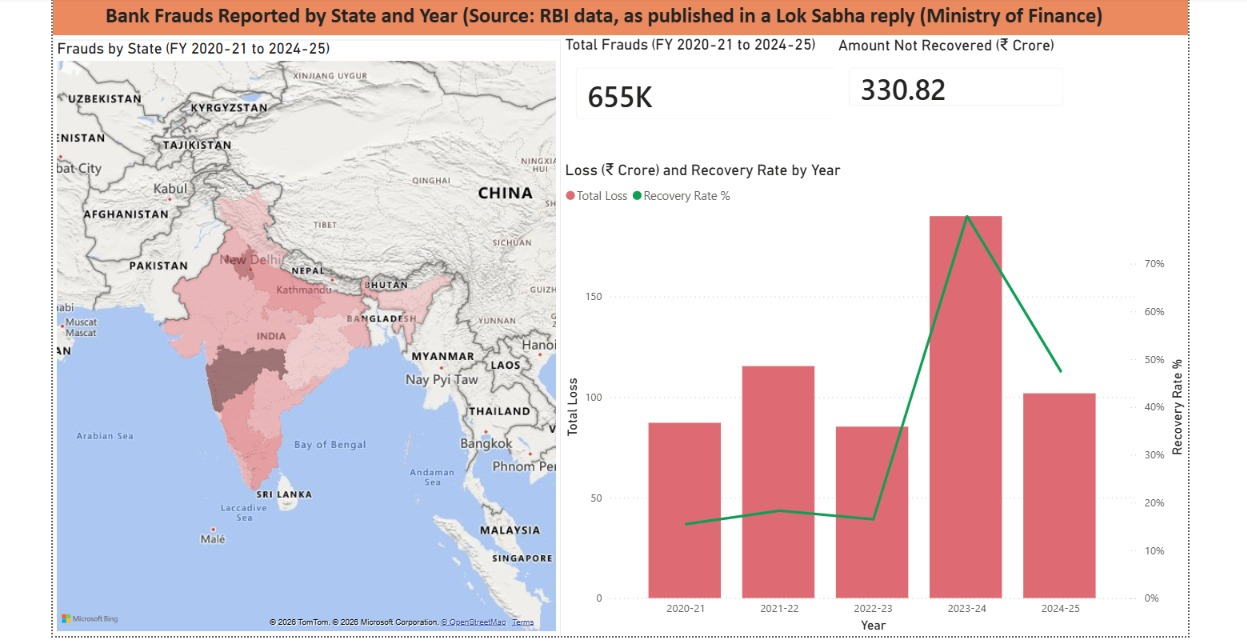

The page's visual inventory and layout, read from the dashboard file:
{"tool":"powerbi","page":{"name":"state wise analysis","canvas":[1280,720],"ordinal":2},"visuals":[{"type":"filledMap","title":"Frauds by State (FY 2020-21 to 2024-25)","fields":{"Category":["states.State/Area"]},"box":[0,47.7,572.3,672.6],"z":0},{"type":"cardVisual","title":"Total Frauds (FY 2020-21 to 2024-25)","fields":{"Data":["state wise data.Total Frauds"]},"box":[572.3,42.8,331.4,111.3],"z":1000},{"type":"cardVisual","title":"Amount Not Recovered (₹ Crore)","fields":{"Data":["state wise data.Amount Not Recovered"]},"box":[880.4,42.8,276.4,96.6],"z":2000},{"type":"lineClusteredColumnComboChart","title":"Loss (₹ Crore) and Recovery Rate by Year","fields":{"Category":["years.Year"],"Y":["state wise data.Total Loss"],"Y2":["state wise data.Recovery Rate %"]},"box":[572.3,183.4,708,536.8],"z":3000},{"type":"textbox","box":[0,0,1280.3,42.8],"z":4000}]}

Visuals, with their boxes on the page's 1280x720 design canvas (x1, y1, x2, y2). These are canvas units, not pixel positions in the 1247x642 screenshot, which may show the page scaled, cropped or inside an application window:
"Frauds by State (FY 2020-21 to 2024-25)" filledMap: [x1=0, y1=48, x2=572, y2=720]
"Total Frauds (FY 2020-21 to 2024-25)" cardVisual: [x1=572, y1=43, x2=904, y2=154]
"Amount Not Recovered (₹ Crore)" cardVisual: [x1=880, y1=43, x2=1157, y2=139]
"Loss (₹ Crore) and Recovery Rate by Year" lineClusteredColumnComboChart: [x1=572, y1=183, x2=1280, y2=720]
textbox: [x1=0, y1=0, x2=1280, y2=43]
